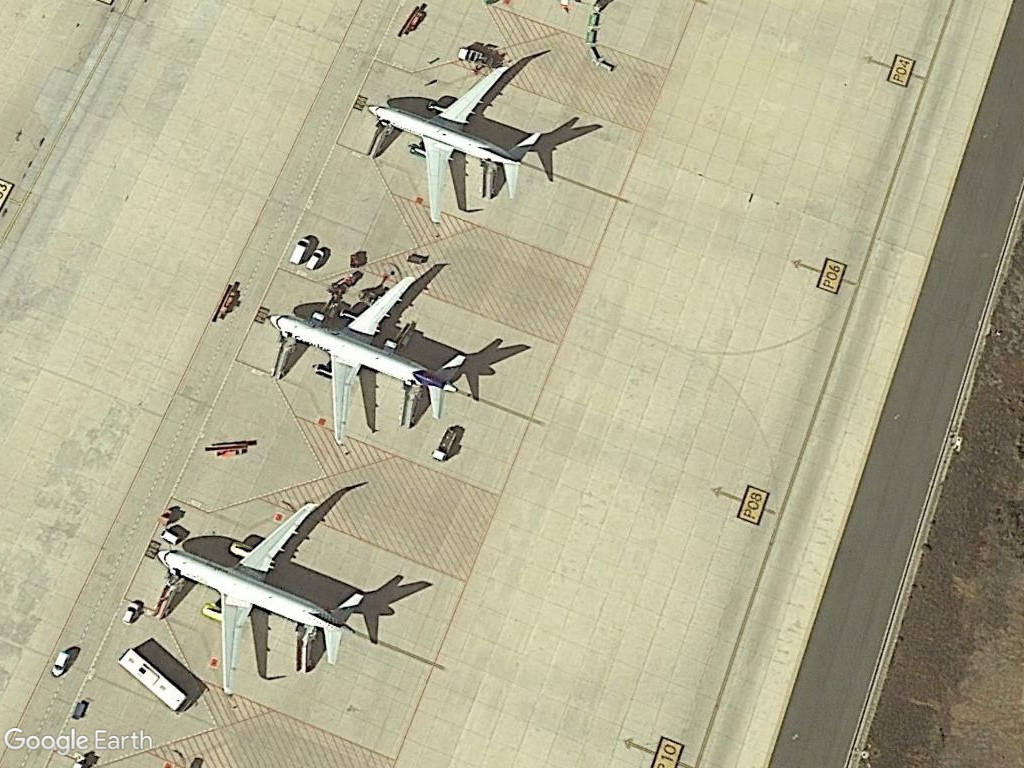airliner: (143, 500, 373, 701), (260, 266, 480, 452), (348, 52, 551, 229)
bus: (113, 647, 192, 715)
stairtruck: (281, 626, 324, 678), (265, 336, 298, 384), (358, 118, 392, 163)
